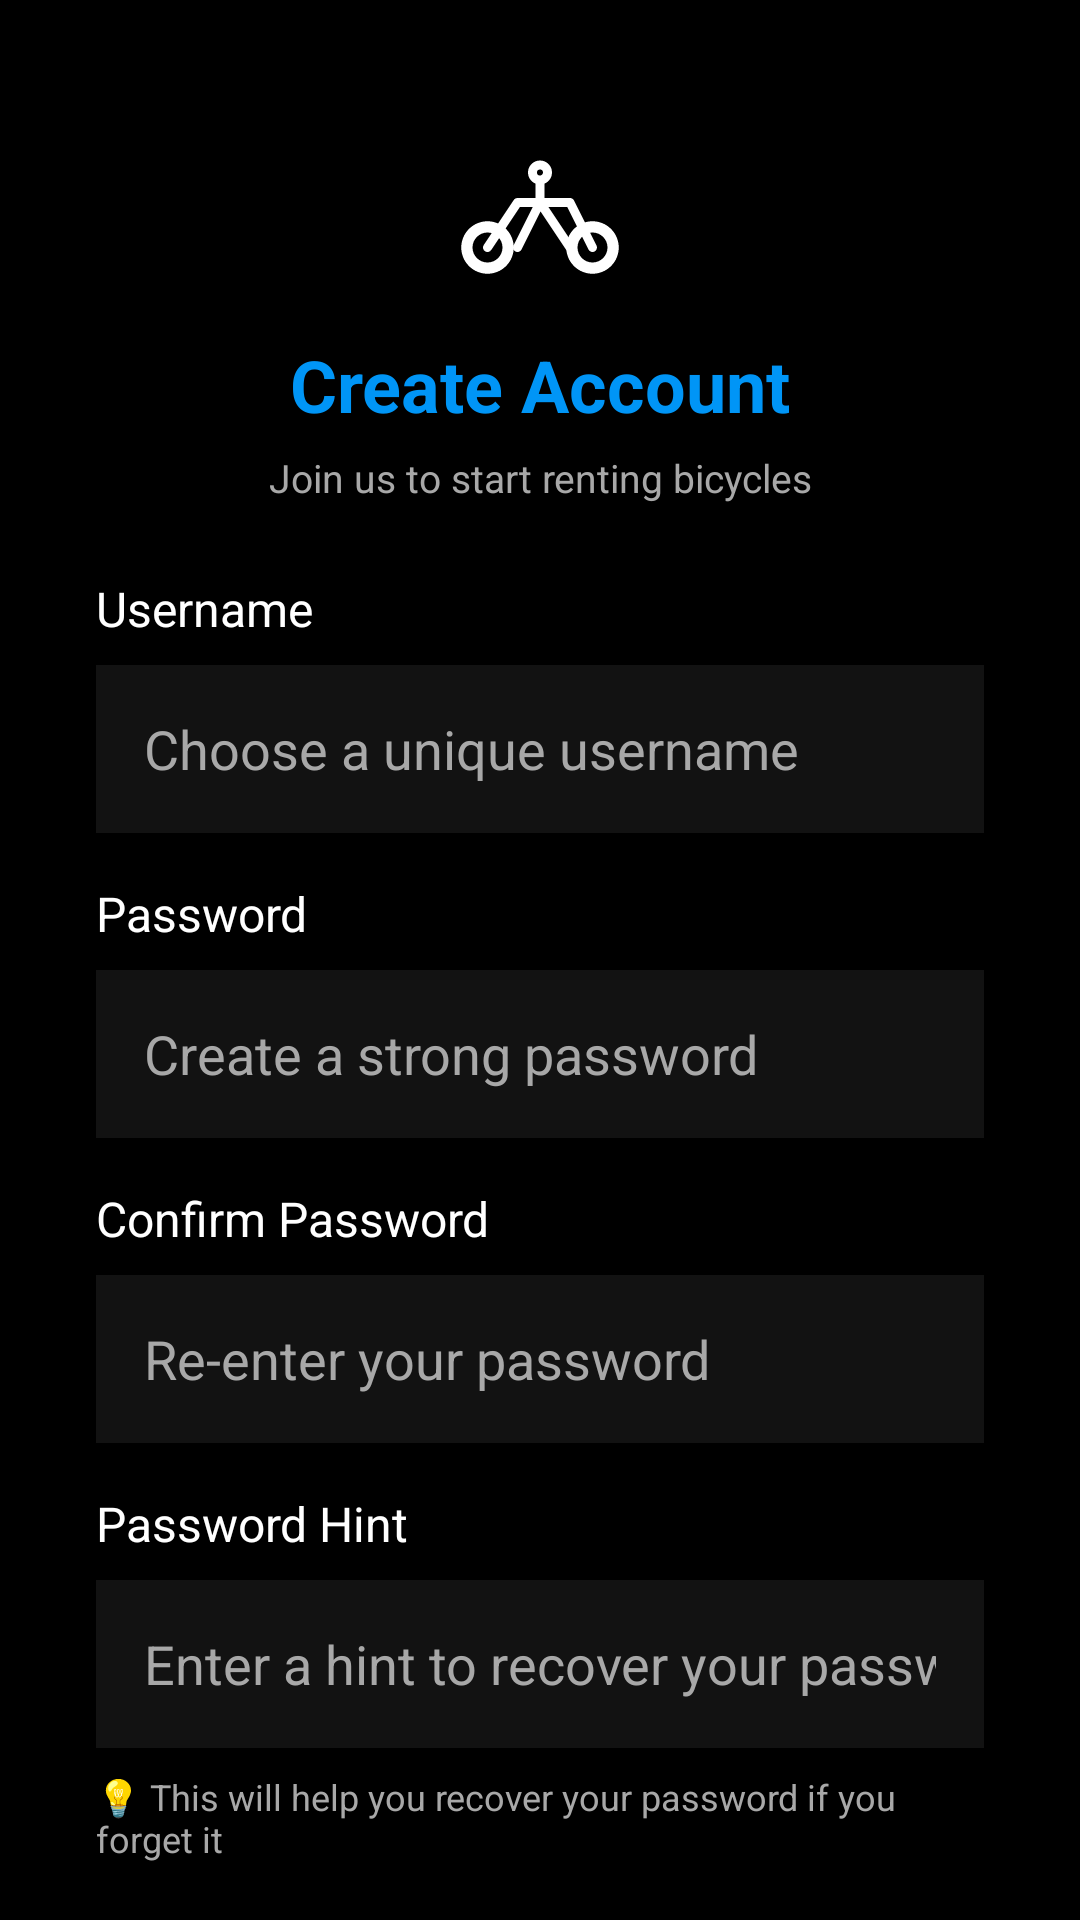

Icon click points for this 1080w x 1920h phone screenshot, format point (x, y):
Bicycle rental icon: point (540, 217)
